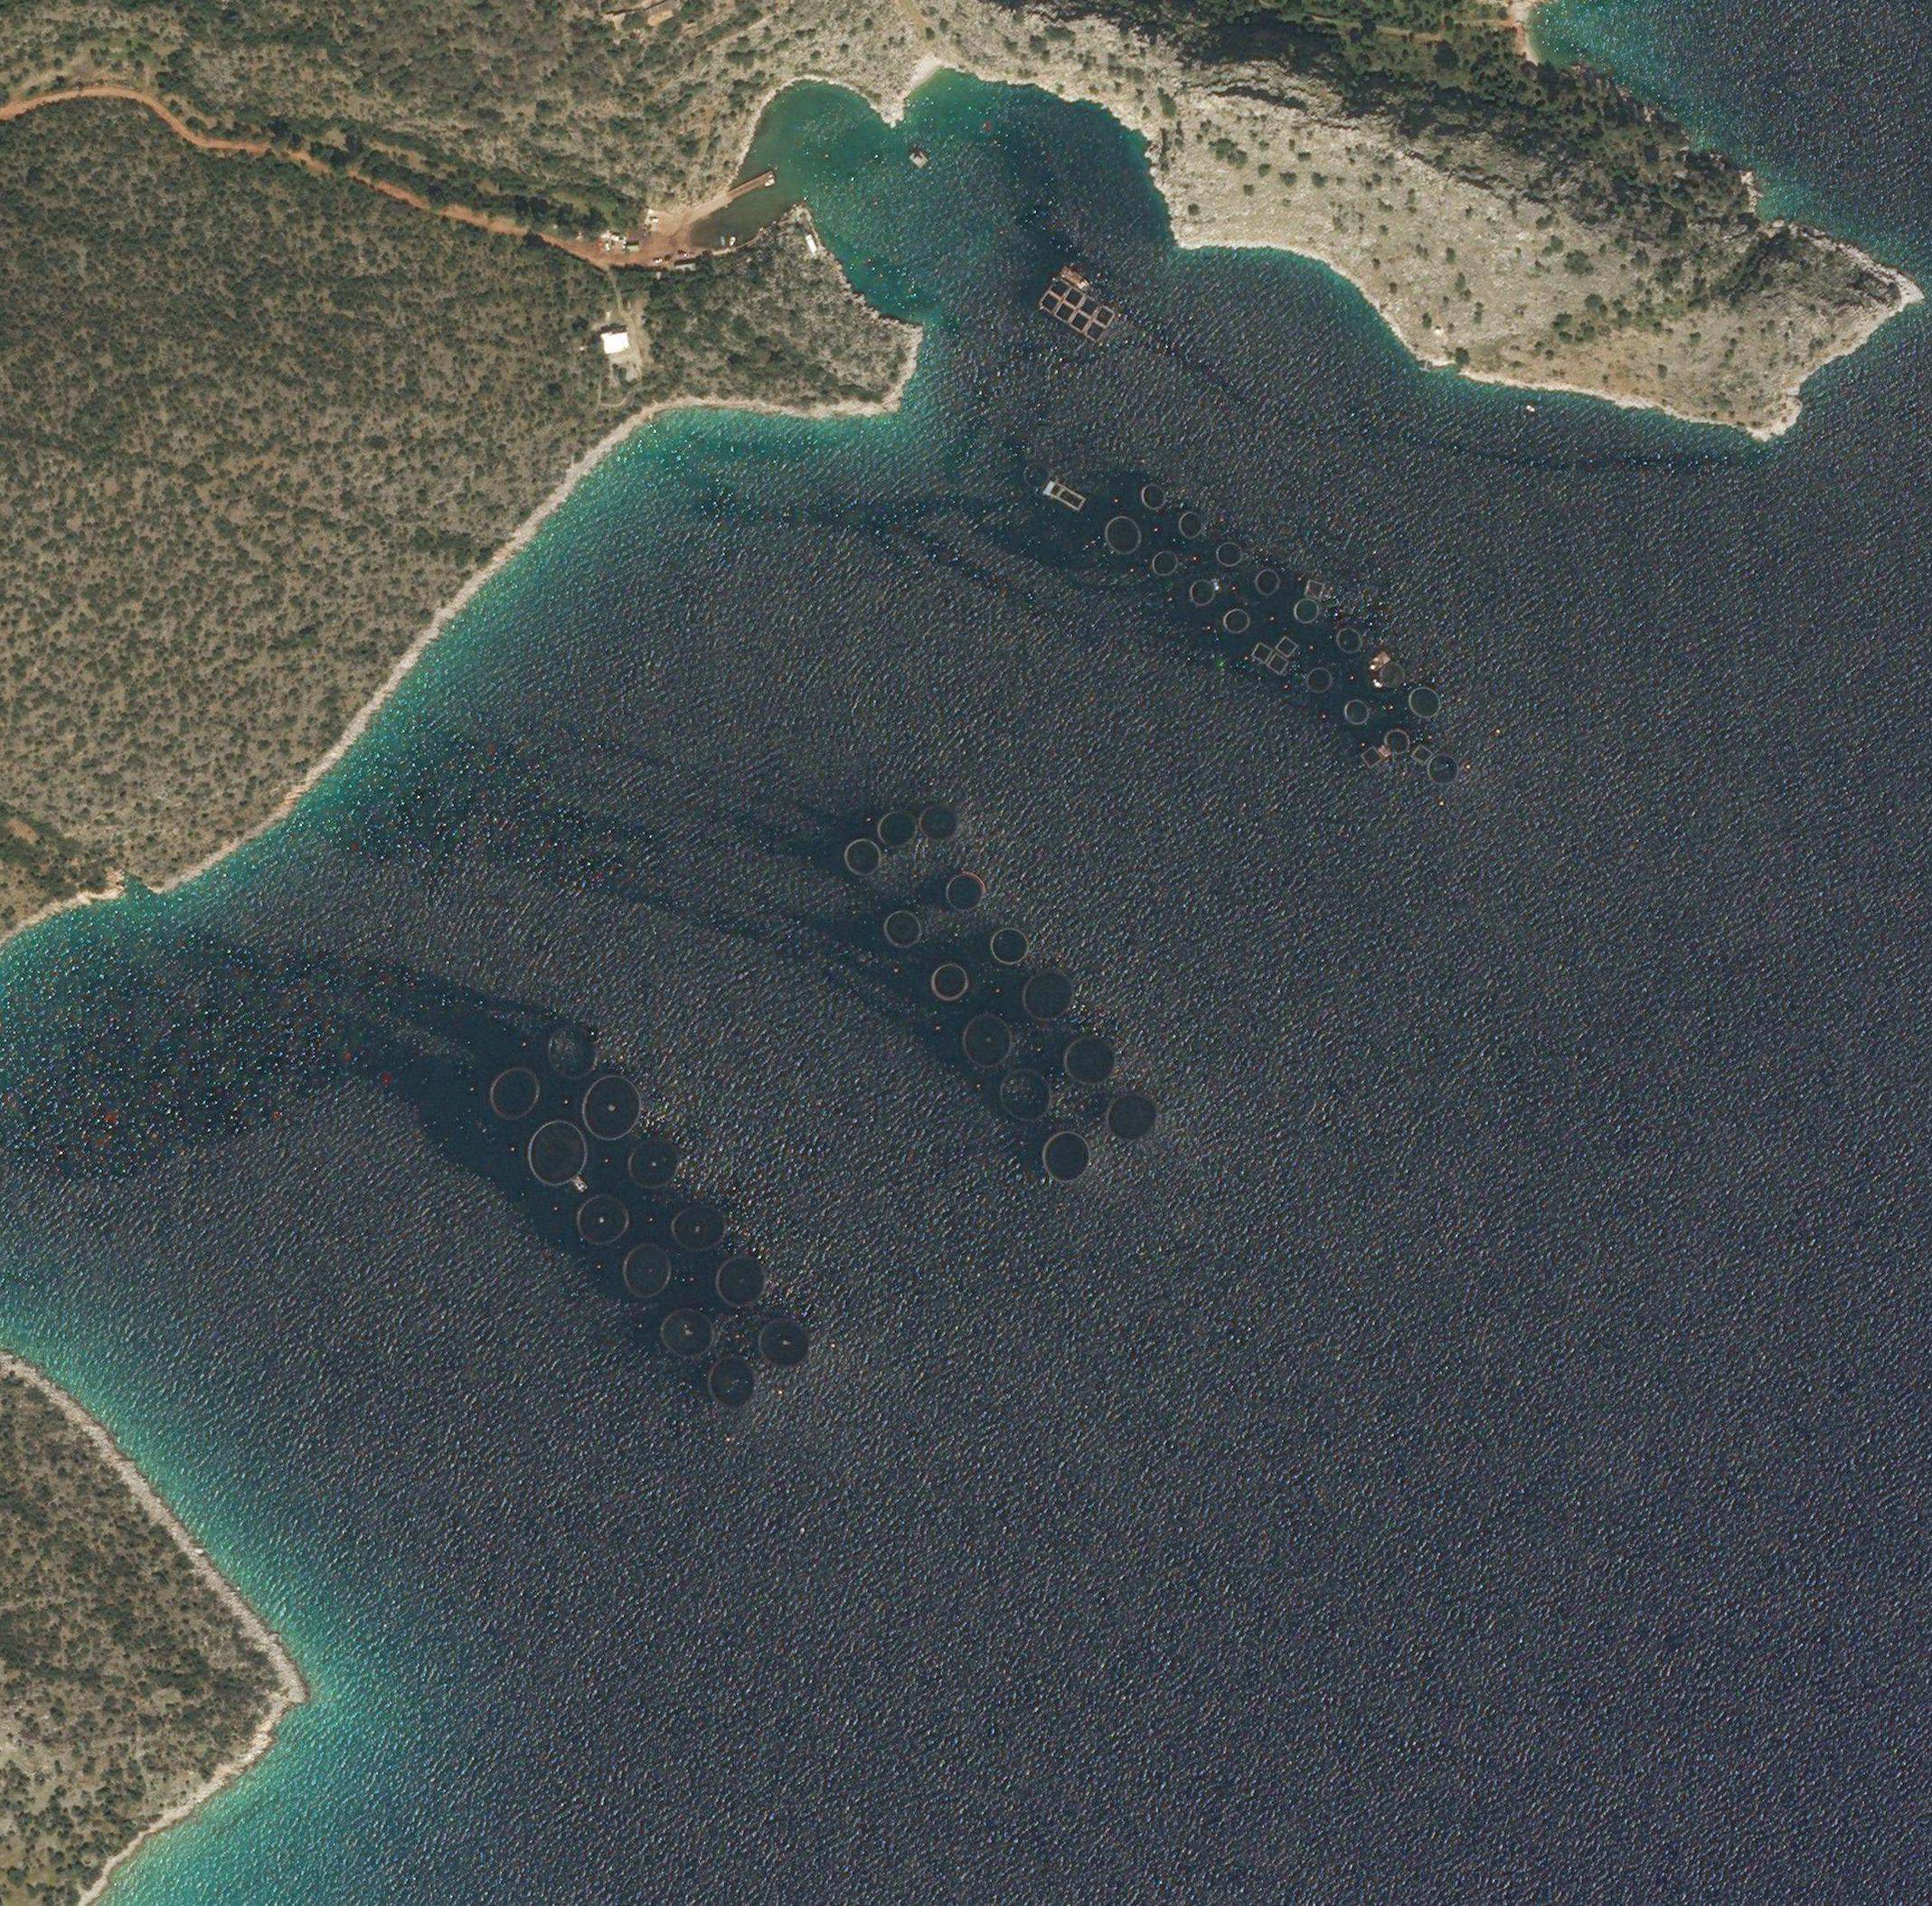c: (583, 1073, 641, 1142), (546, 1023, 597, 1080), (1021, 969, 1073, 1021), (660, 1309, 716, 1358), (490, 1066, 541, 1119), (757, 1316, 808, 1368), (628, 1140, 679, 1190), (716, 1257, 766, 1307), (1000, 1070, 1051, 1121), (578, 1196, 630, 1244), (1042, 1131, 1091, 1183), (1106, 1091, 1159, 1140), (672, 1204, 726, 1251), (623, 1243, 670, 1297), (963, 1014, 1011, 1068), (1065, 1037, 1117, 1084), (709, 1358, 756, 1407), (944, 871, 988, 913), (878, 808, 920, 848), (1105, 515, 1143, 557), (883, 911, 921, 950), (930, 963, 969, 1000), (843, 840, 881, 876), (991, 929, 1030, 963), (1408, 688, 1442, 719), (1138, 483, 1168, 511), (1176, 511, 1206, 539), (1222, 609, 1253, 634), (1305, 665, 1332, 693), (1335, 628, 1363, 655), (1344, 698, 1372, 724), (1152, 550, 1178, 576), (1255, 569, 1281, 595), (1215, 543, 1243, 567), (1293, 599, 1319, 623)
